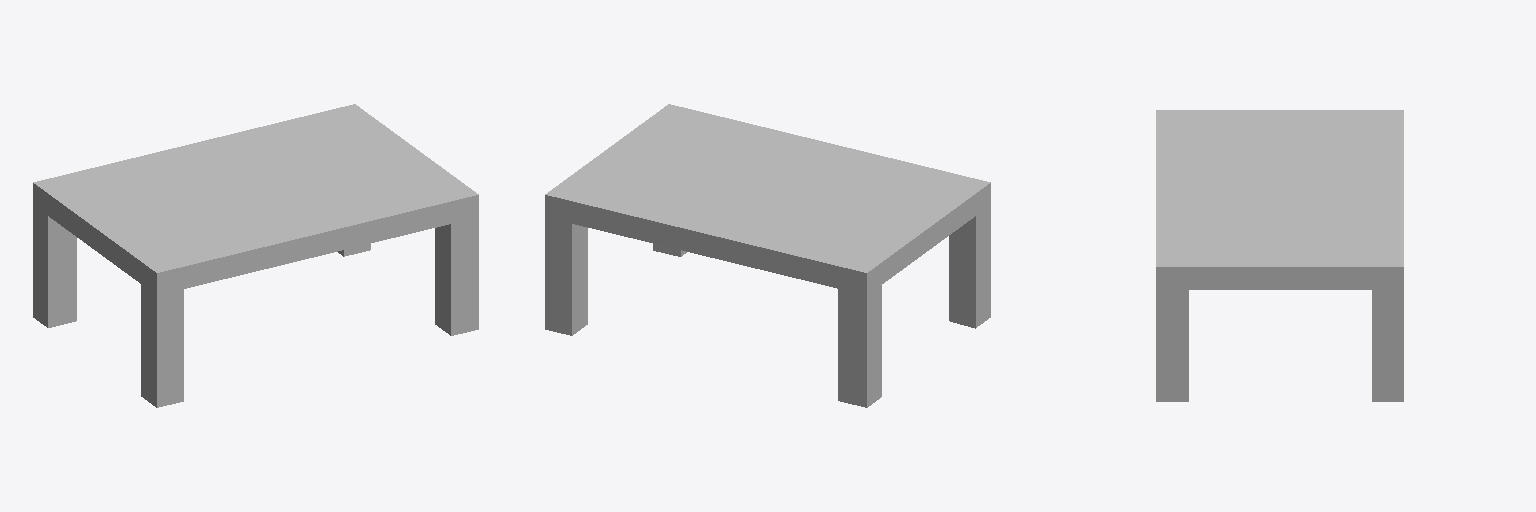
File: table.obj
3 views of the same model, side by side, from view 1: azimuth 30°, elevation 25°; view 2: azimuth 150°, elevation 25°; view 3: azimuth 270°, elevation 25° (orthographic).
Parts seen in each view (by area): view 1: Cube; view 2: Cube; view 3: Cube.
Boxes of the visible parts, x1,y1,x2,y2 form: Cube: [33, 104, 478, 407]; Cube: [545, 104, 990, 407]; Cube: [1156, 110, 1403, 401].
Size of the model in its own units: 6 by 2.4 by 4.